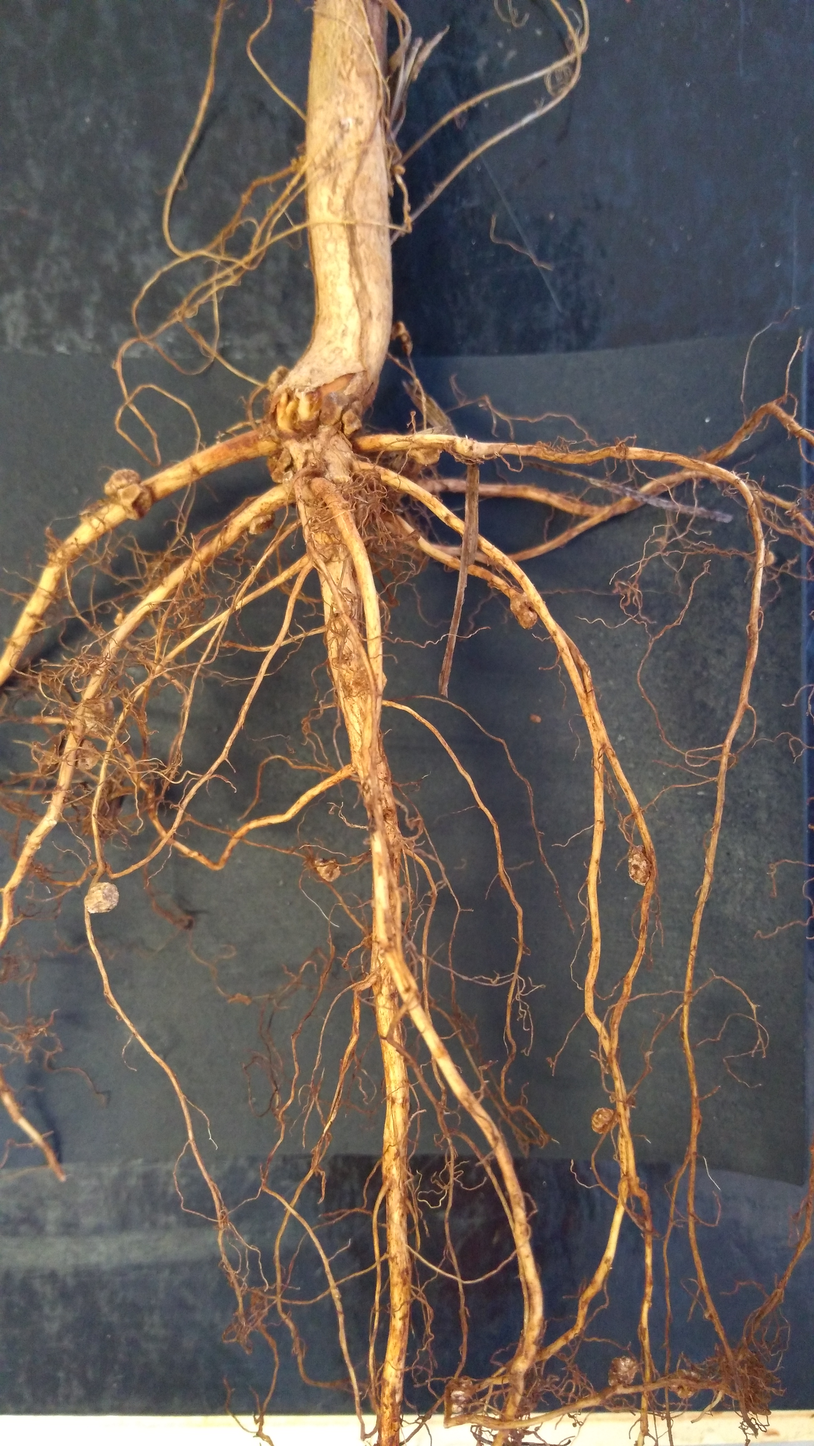nodule: (269, 386, 321, 444), (115, 484, 154, 522), (82, 879, 122, 916), (664, 1365, 704, 1402), (626, 839, 654, 891), (82, 695, 118, 735), (607, 1351, 642, 1392), (263, 446, 298, 485), (585, 1104, 622, 1139), (304, 529, 338, 567), (508, 594, 541, 632), (319, 390, 353, 426), (102, 467, 142, 497), (71, 739, 103, 774), (246, 509, 280, 539), (404, 444, 444, 469), (264, 363, 294, 394), (313, 856, 341, 886), (341, 408, 364, 438), (281, 469, 301, 497), (350, 398, 365, 419), (450, 1388, 467, 1402), (392, 161, 407, 176), (528, 712, 544, 726), (113, 611, 125, 627), (459, 1375, 474, 1387), (449, 1401, 464, 1412)
